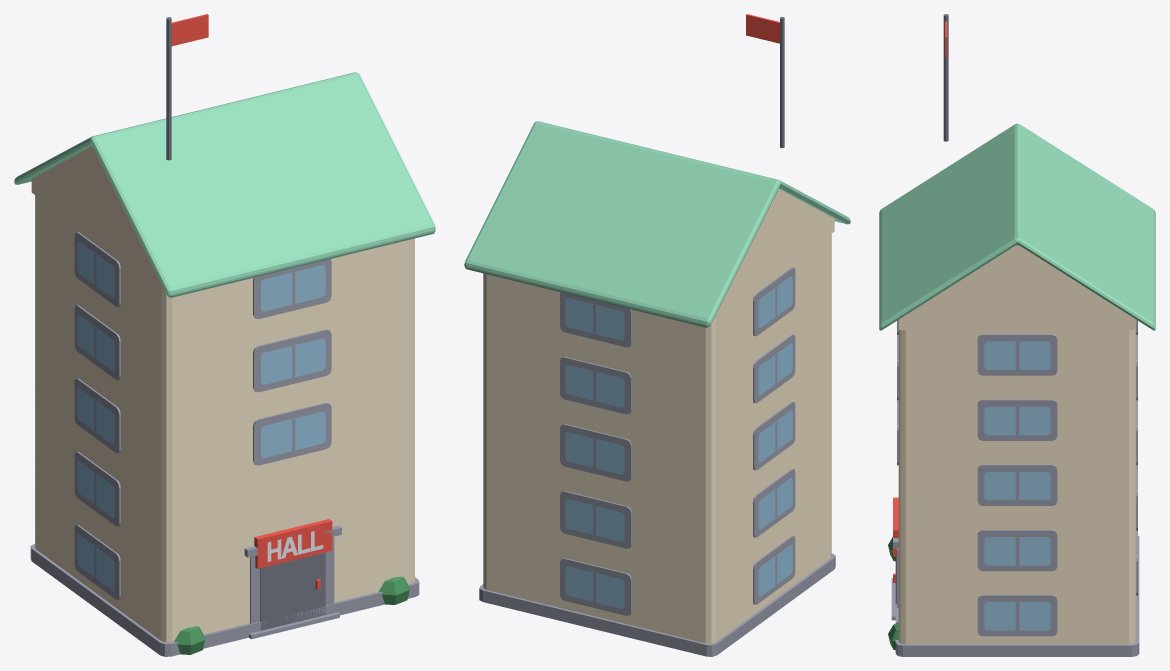
Rendered from community-hall-1x1-5f.glb.
3 views of the same model, side by side, from view 1: azimuth 30°, elevation 25°; view 2: azimuth 150°, elevation 25°; view 3: azimuth 270°, elevation 25° (orthographic). The views are drawn at different scales.
Parts seen in each view (by area): view 1: community-hall-1x1-5f; view 2: community-hall-1x1-5f; view 3: community-hall-1x1-5f.
Part boxes in pixels (<box>): community-hall-1x1-5f: <box>14,14,435,656</box>; community-hall-1x1-5f: <box>464,14,850,656</box>; community-hall-1x1-5f: <box>879,14,1155,656</box>.
Bounding box in the file's own units: 1 × 2.17 × 1.
1 material, 1 textured.
